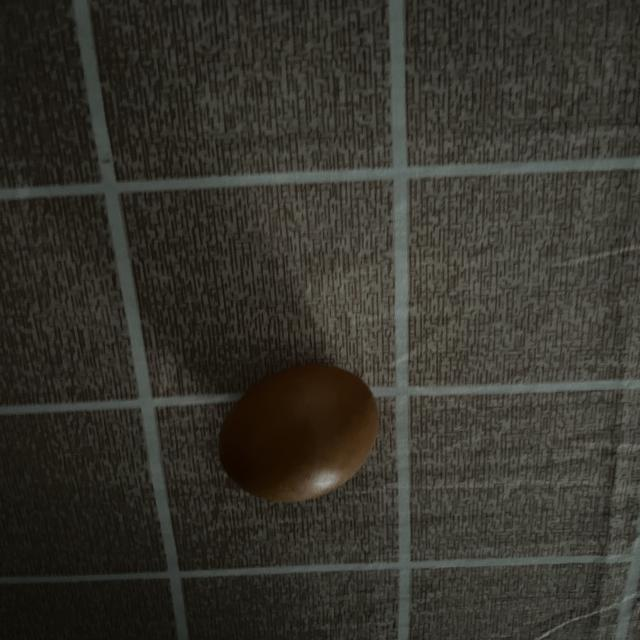egg: (203, 352, 392, 509)
